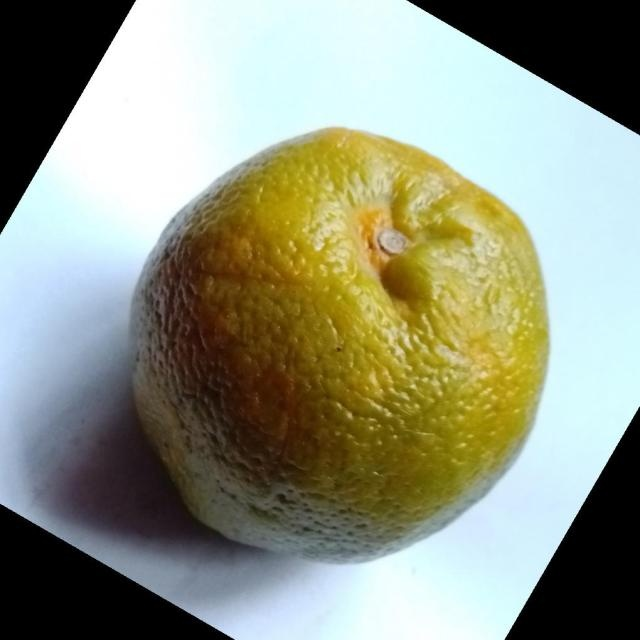agrume: (127, 124, 551, 565)
